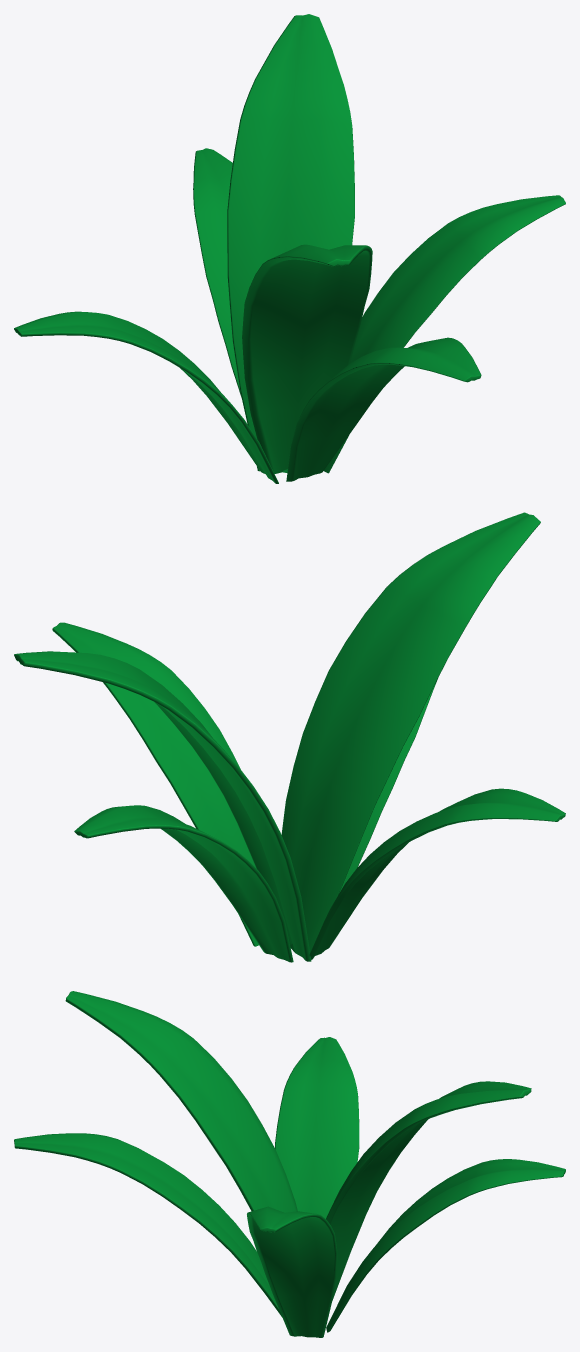
File: Farm_8_Plant_1.glb
3 renders of one model, top to bottom at view 1: azimuth 30°, elevation 25°; view 2: azimuth 150°, elevation 25°; view 3: azimuth 270°, elevation 25°, orthographic. The views are drawn at different scales.
Visible parts, largest first — view 1: Farm_8_Plant_1; view 2: Farm_8_Plant_1; view 3: Farm_8_Plant_1.
Part boxes in pixels (x1,y1,x2,y2): Farm_8_Plant_1: (14,14,565,483); Farm_8_Plant_1: (14,512,565,962); Farm_8_Plant_1: (14,991,565,1337).
Size of the model in its own units: 1.53 by 0.9506 by 1.62.
Materials: 1 (1 with a texture image).
